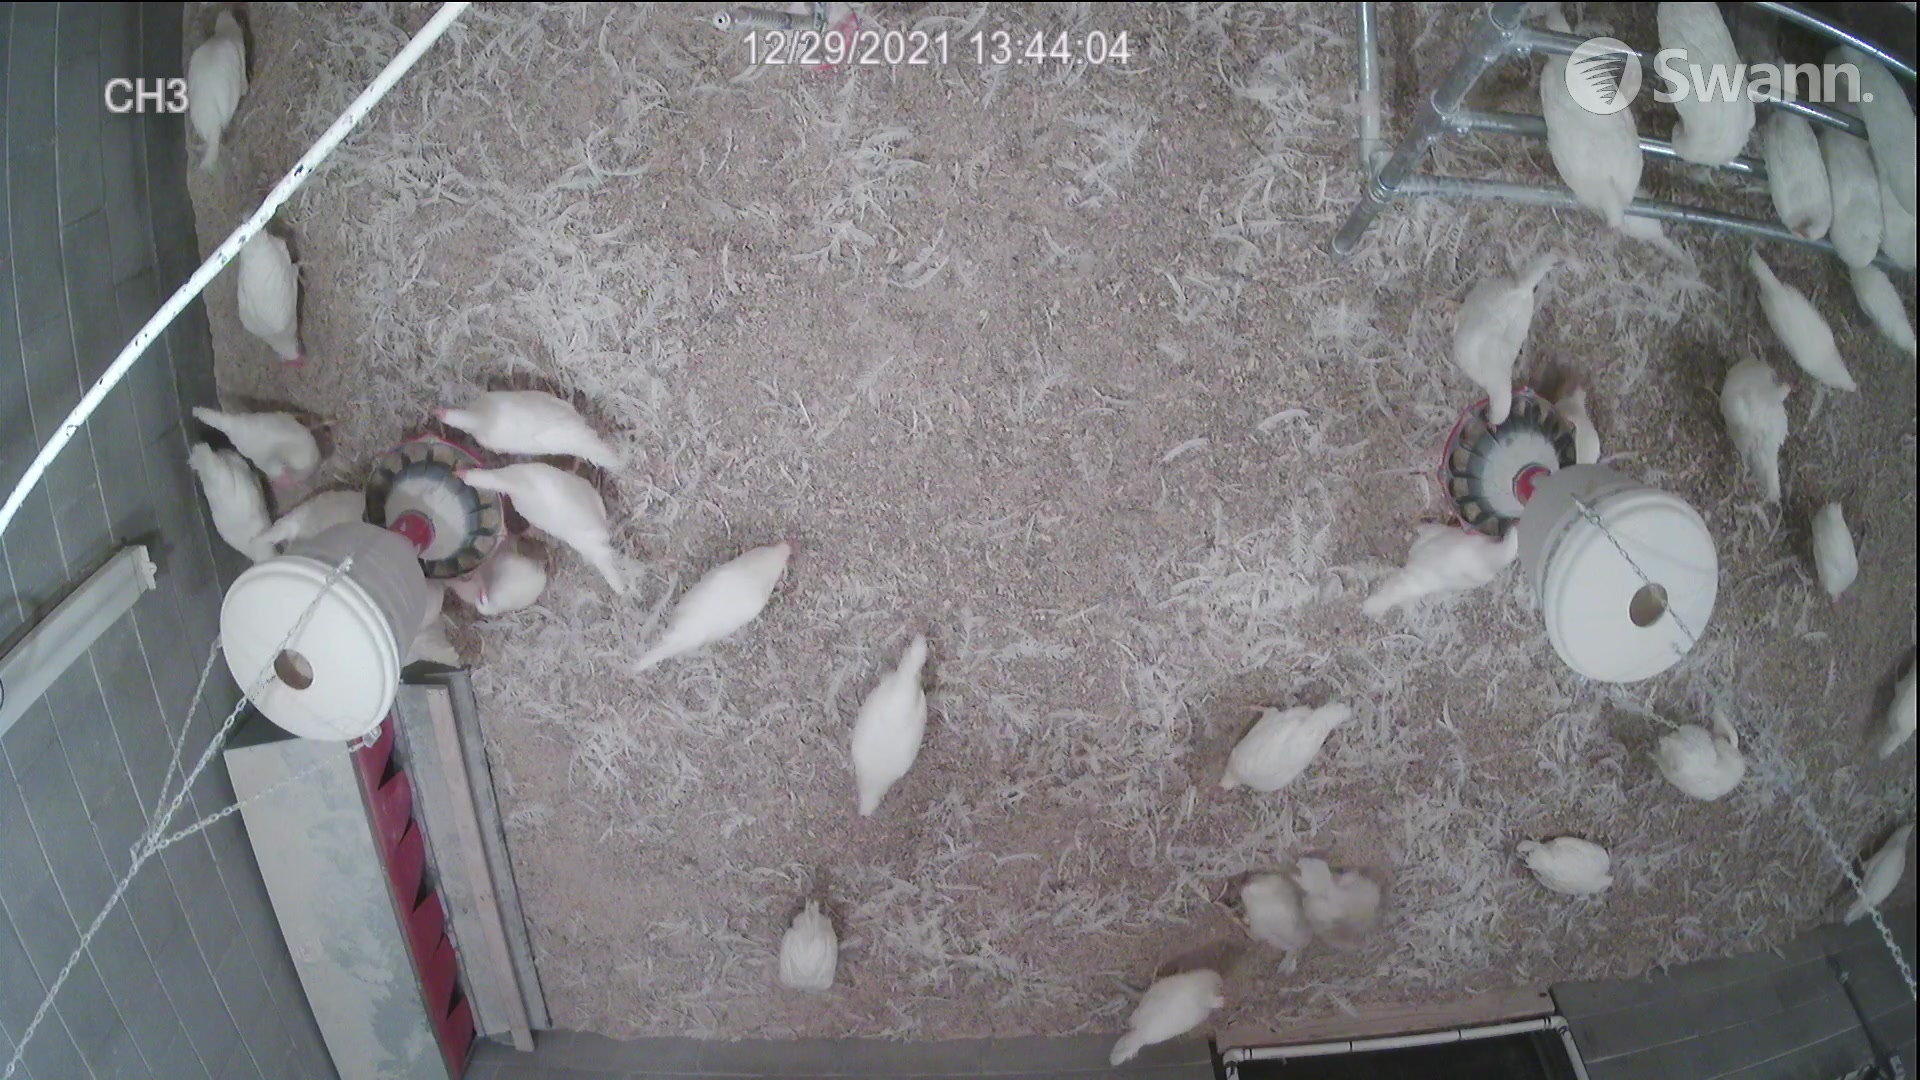Dust Bathing: (1294, 844, 1386, 943)
Feeding: (455, 454, 622, 588), (1374, 513, 1520, 632), (1452, 255, 1553, 422), (422, 393, 622, 465)
Foraging: (621, 534, 807, 691), (836, 625, 949, 819), (1215, 676, 1360, 815), (165, 11, 276, 153), (225, 211, 320, 371), (1807, 497, 1865, 617), (774, 891, 836, 1000)
Perching: (1524, 12, 1629, 233), (1836, 29, 1920, 229), (1659, 0, 1750, 153), (1803, 131, 1894, 262), (1767, 105, 1822, 255)
Preening: (1643, 694, 1775, 811)
